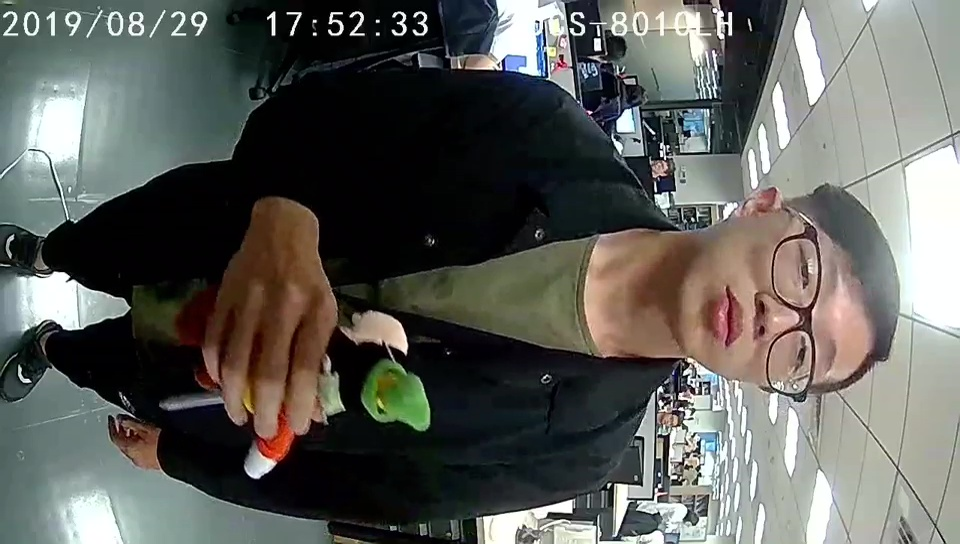goofy: (174, 283, 432, 478)
